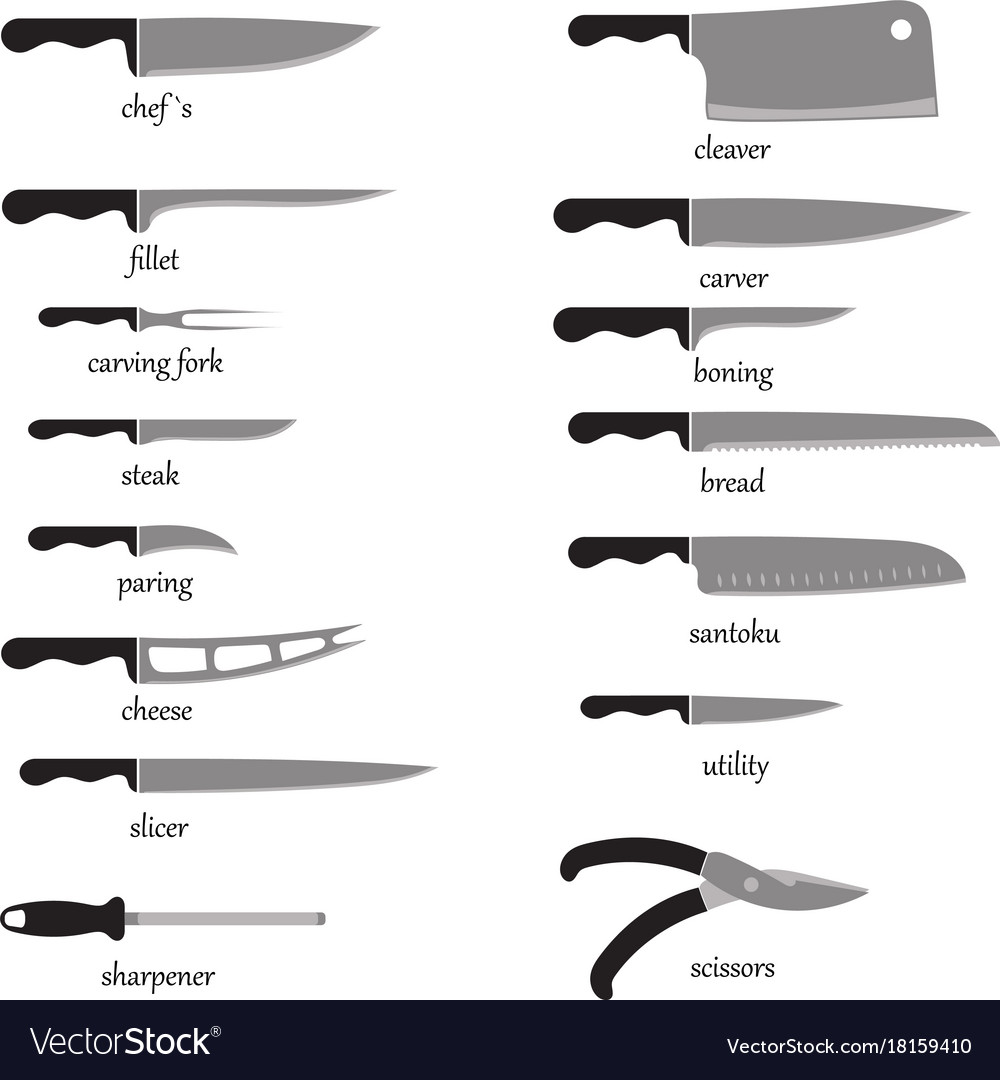knife: (556, 192, 973, 251), (579, 690, 840, 731), (29, 415, 299, 448)
